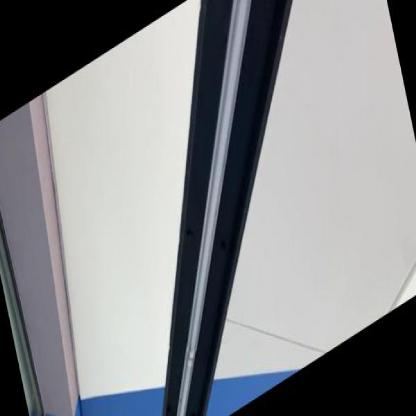light_off: (82, 0, 346, 415)
